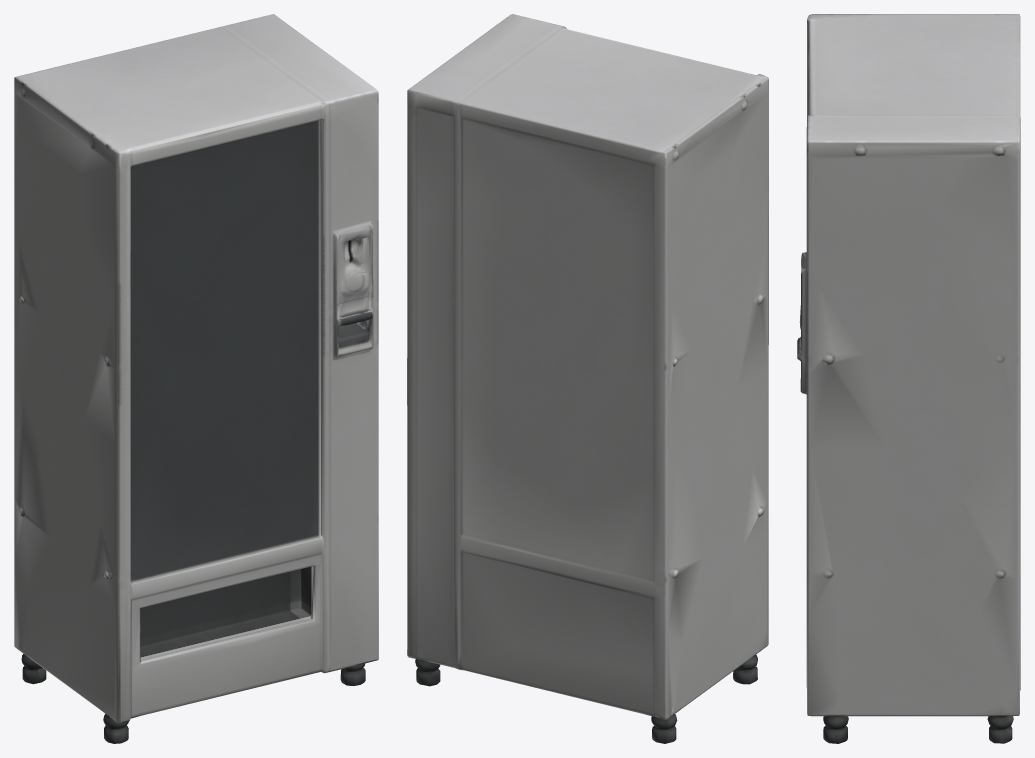
The model's file is vending.glb.
3 views of the same model, side by side, from view 1: azimuth 30°, elevation 25°; view 2: azimuth 150°, elevation 25°; view 3: azimuth 270°, elevation 25° (orthographic).
Parts seen in each view (by area): view 1: low; view 2: low; view 3: low.
Part boxes in pixels (x1=…): low: x1=14, y1=14, x2=378, y2=743; low: x1=407, y1=14, x2=768, y2=743; low: x1=797, y1=14, x2=1020, y2=743.
Size of the model in its own units: 0.8692 by 1.88 by 0.6287.
1 material, 1 textured.
